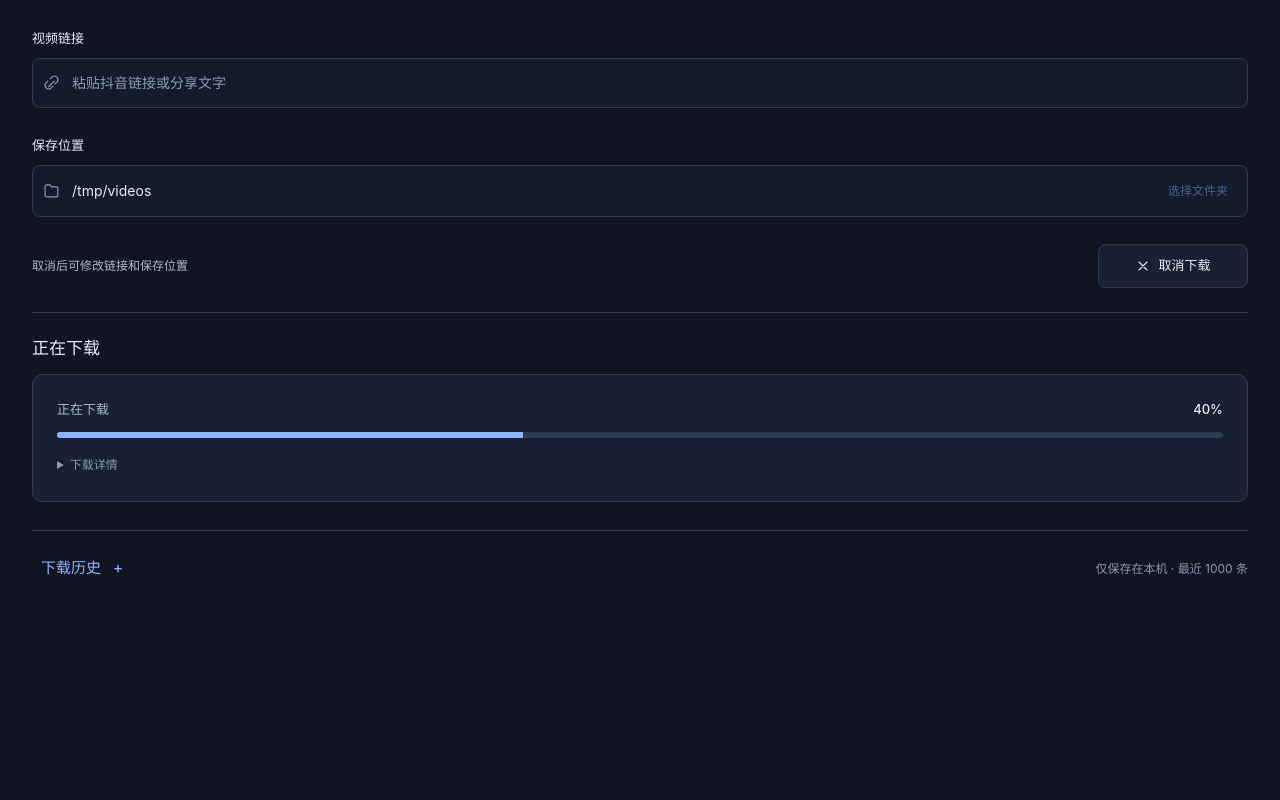
Test: keeps technical download details collapsed and shows one overall progress bar
The width and height of the screenshot is (1280, 800).
Expected: the number of progress indicators is 1, x1=57 y1=432 x2=1223 y2=438
Click the heading "下载详情" at (94, 465), box x1=70 y1=457 x2=118 y2=472
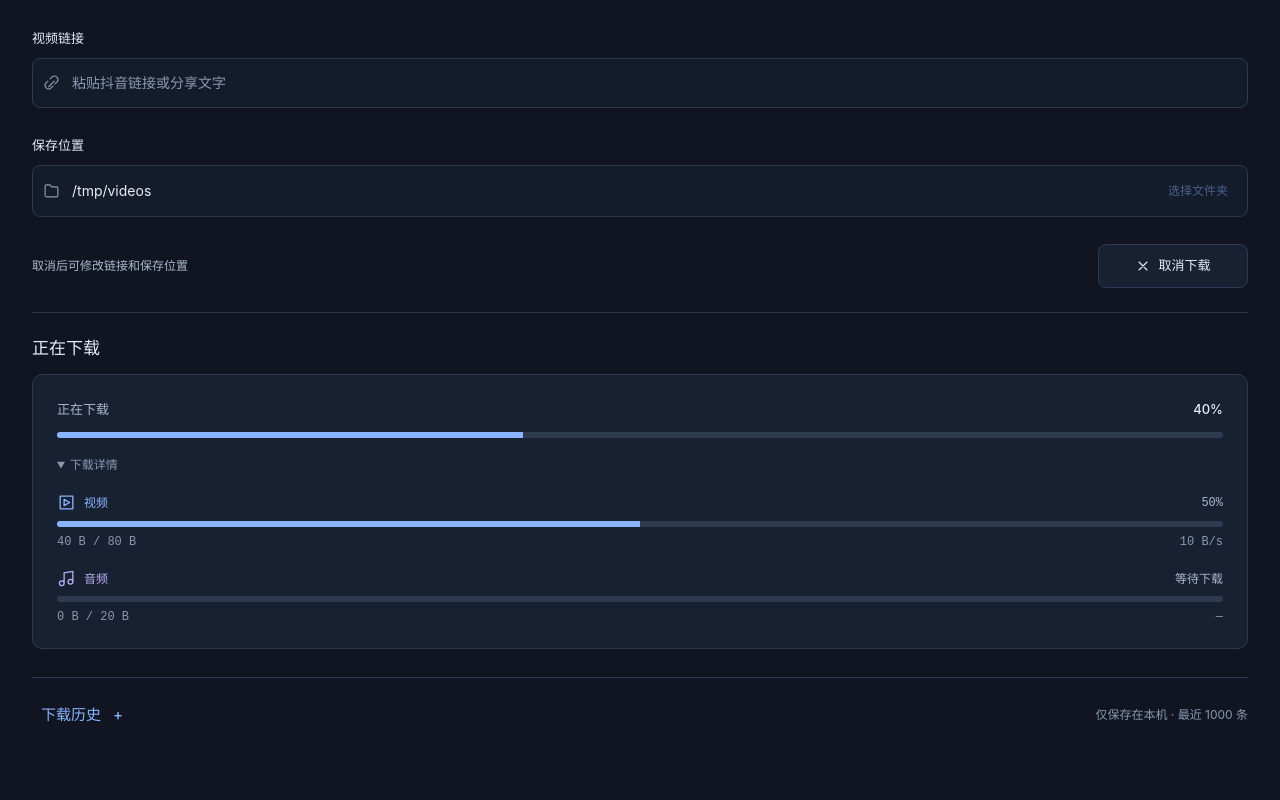
Expected: the progress indicator named "音频下载进度" is shown, x1=57 y1=596 x2=1223 y2=602
